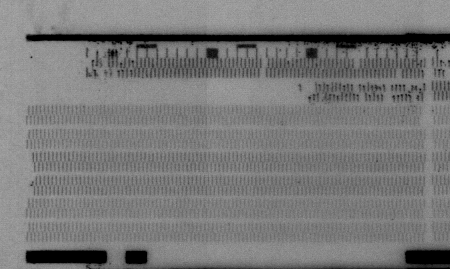Broken hole: (27, 75, 443, 109), (28, 51, 128, 79), (21, 150, 38, 199), (257, 58, 271, 80), (441, 58, 450, 82), (351, 56, 362, 71), (393, 69, 404, 80)
Oblique printing: (415, 57, 428, 70)
